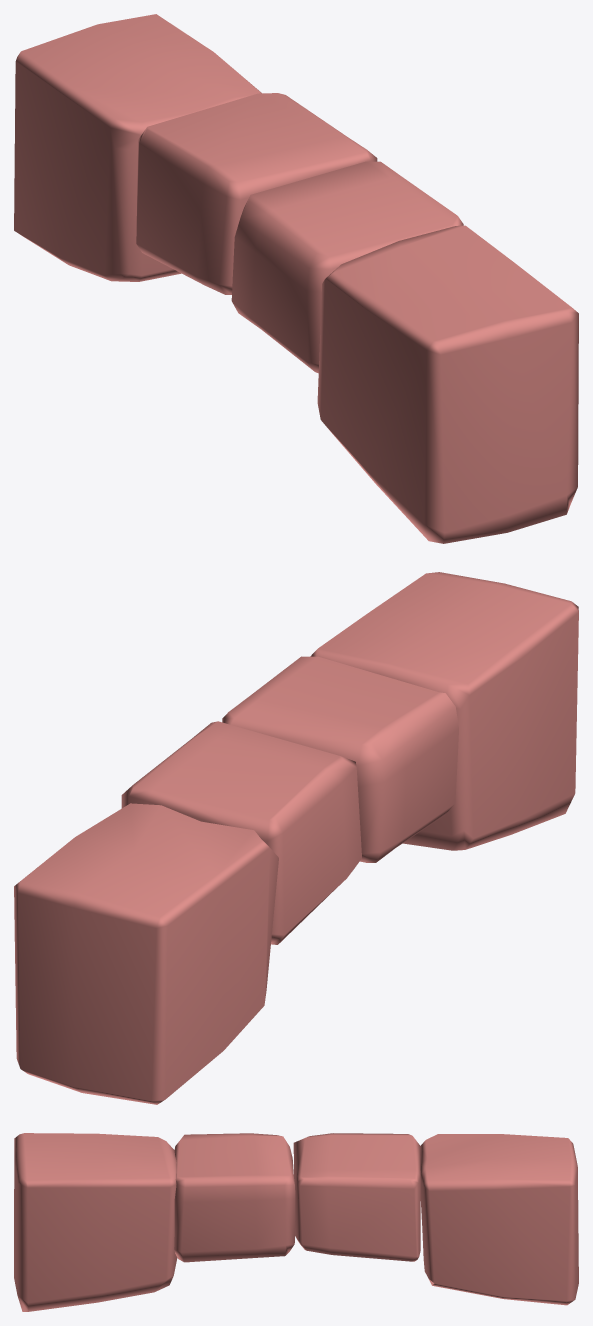
The model's file is Fireplace_02B_Lod0.fbx.
The picture shows the model from 3 angles, top to bottom: view 1: azimuth 30°, elevation 25°; view 2: azimuth 150°, elevation 25°; view 3: azimuth 270°, elevation 25°; orthographic projection. The views are drawn at different scales.
Parts seen in each view (by area): view 1: Fireplace_02B_Lod0; view 2: Fireplace_02B_Lod0; view 3: Fireplace_02B_Lod0.
Boxes of the visible parts, x1,y1,x2,y2 form: Fireplace_02B_Lod0: (14, 14, 578, 543); Fireplace_02B_Lod0: (14, 572, 578, 1104); Fireplace_02B_Lod0: (14, 1133, 578, 1311).
Size of the model in its own units: 37.83 by 45.48 by 166.
